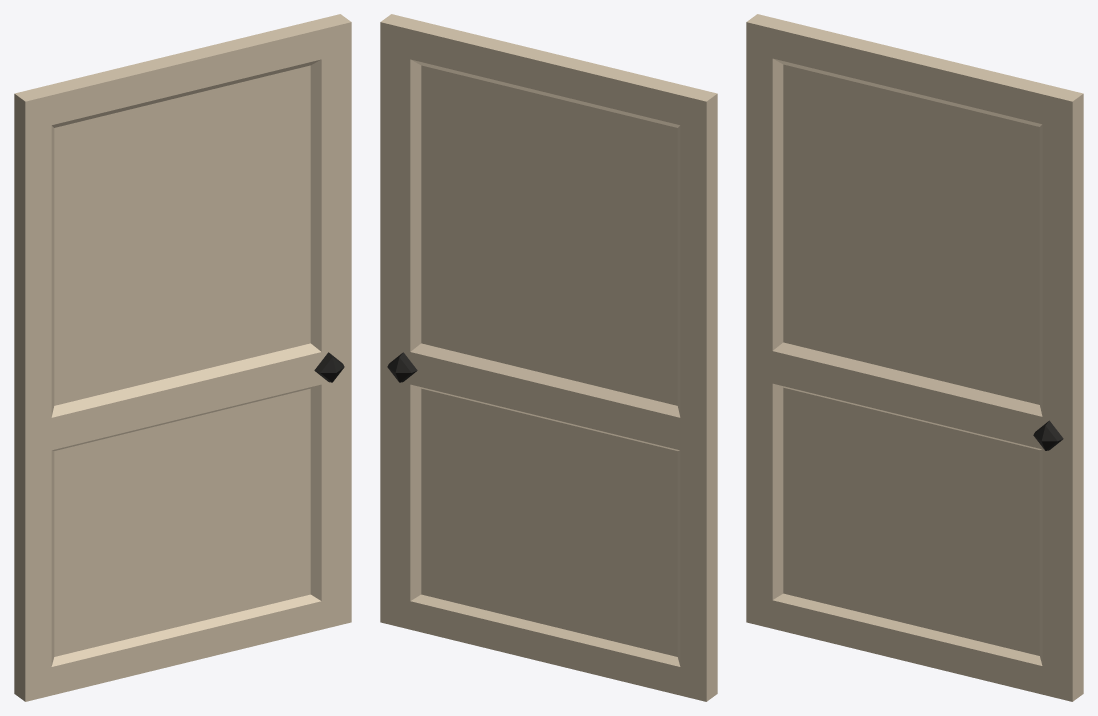
The model's file is Door_2E.fbx.
3 renders of one model, left to right at view 1: azimuth 30°, elevation 25°; view 2: azimuth 150°, elevation 25°; view 3: azimuth 330°, elevation 25°, orthographic.
Visible parts, largest first — view 1: polySurface1647; view 2: polySurface1647; view 3: polySurface1647.
Boxes of the visible parts, x1,y1,x2,y2 form: polySurface1647: [14, 14, 351, 701]; polySurface1647: [380, 14, 717, 701]; polySurface1647: [746, 14, 1083, 701].
Size of the model in its own units: 1.7 by 2.99 by 0.243.
1 material, 1 textured.
